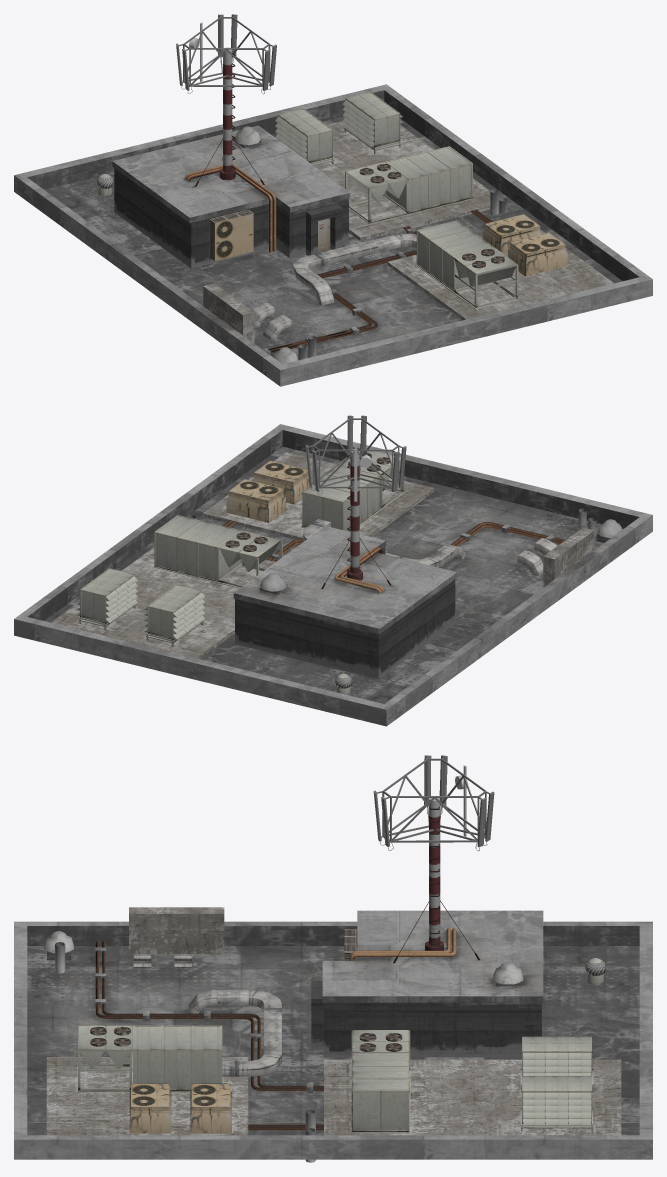
The model's file is roof00.fbx.
3 views of the same model, one above another, from view 1: azimuth 30°, elevation 25°; view 2: azimuth 150°, elevation 25°; view 3: azimuth 270°, elevation 25° (orthographic). The views are drawn at different scales.
Parts seen in each view (by area): view 1: Plane01, Object66, Box131, Box1372, Box1335, Box1932, Box1426, k32, Rectangle6620, Box133, Object133, Object260 (+12 smaller); view 2: Plane01, Object66, Box131, Box1372, Box1335, Box1932, Box1426, k34, Rectangle6620, Box133, Object260, Object133 (+8 smaller); view 3: Plane01, Object66, Box1372, Box131, Box1335, Box1426, Box133, Box1932, Rectangle6620, polymsh6, Box1409, k32 (+11 smaller).
Part boxes in pixels (x1,y1,x2,y2): Plane01: [14, 84, 652, 386]; Object66: [112, 125, 350, 222]; Box131: [114, 168, 348, 268]; Box1372: [314, 121, 500, 240]; Box1335: [387, 229, 613, 320]; Box1932: [385, 146, 472, 213]; Box1426: [416, 220, 494, 291]; k32: [508, 232, 567, 276]; Rectangle6620: [183, 16, 270, 86]; Box133: [203, 283, 254, 343]; Object133: [345, 92, 400, 146]; Object260: [278, 108, 332, 162]; Plane01: [14, 424, 652, 726]; Object66: [233, 526, 457, 633]; Box131: [235, 546, 455, 679]; Box1372: [51, 547, 275, 658]; Box1335: [202, 452, 434, 539]; Box1932: [154, 515, 242, 581]; Box1426: [302, 465, 380, 531]; k34: [226, 479, 286, 522]; Rectangle6620: [312, 418, 399, 488]; Box133: [543, 527, 594, 587]; Object260: [147, 584, 202, 639]; Object133: [80, 568, 134, 623]; Plane01: [14, 921, 652, 1159]; Object66: [322, 910, 543, 1002]; Box1372: [324, 1059, 621, 1135]; Box131: [324, 1002, 541, 1057]; Box1335: [46, 1057, 248, 1135]; Box1426: [133, 1025, 222, 1090]; Box133: [129, 907, 224, 954]; Box1932: [352, 1053, 409, 1131]; Rectangle6620: [382, 758, 486, 842]; polymsh6: [95, 941, 323, 1129]; Box1409: [523, 1092, 591, 1125]; k32: [129, 1083, 171, 1133].
Bounding box in the file's own units: 21.19 × 11.57 × 26.24.
